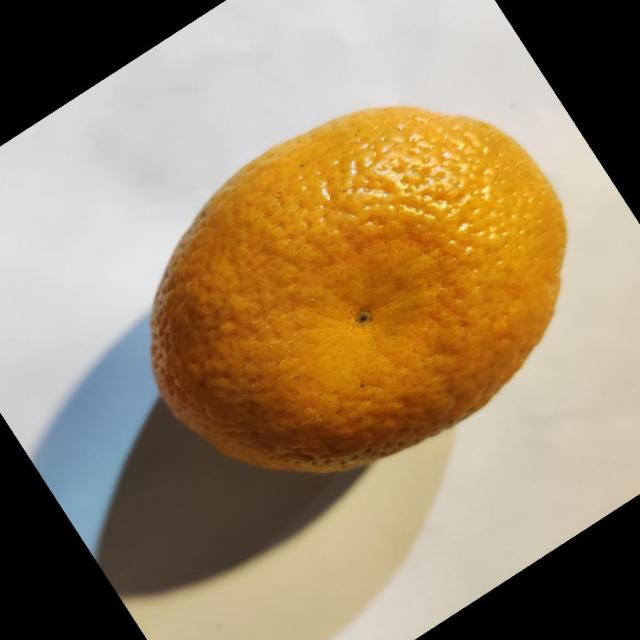fresh orange: (149, 104, 567, 474)
